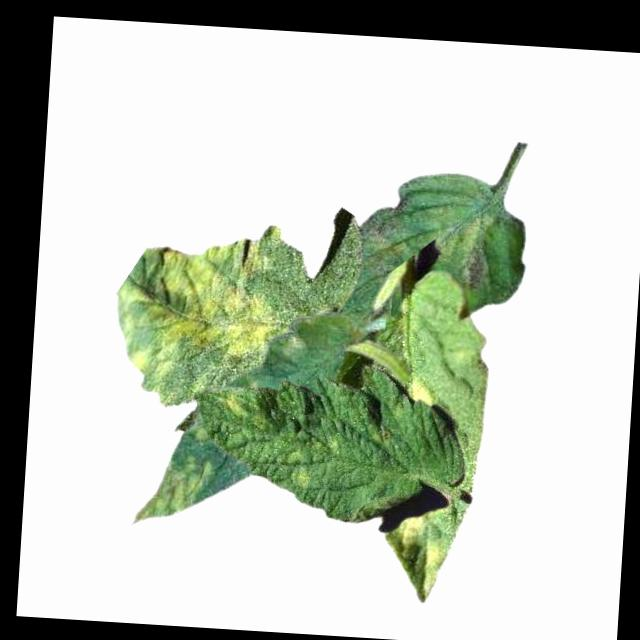Leaf_Mold: (106, 215, 282, 381), (127, 450, 214, 531), (443, 211, 494, 291), (419, 541, 451, 602), (393, 511, 424, 548), (217, 390, 250, 420), (286, 457, 312, 491), (404, 378, 433, 405)
